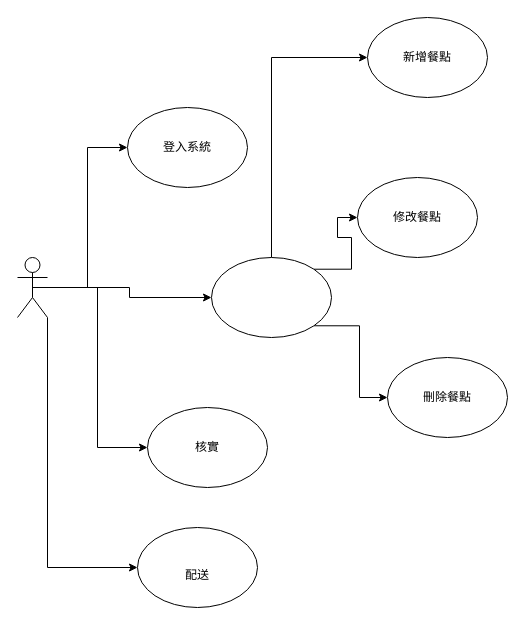
Some shapes in this 525 by 625 pixel diagram are drawn without their labels. The centre of each missing label's shape, as x and y in pixels:
"商家" goes at [32,287].
"訂餐信息" goes at [271,297].
